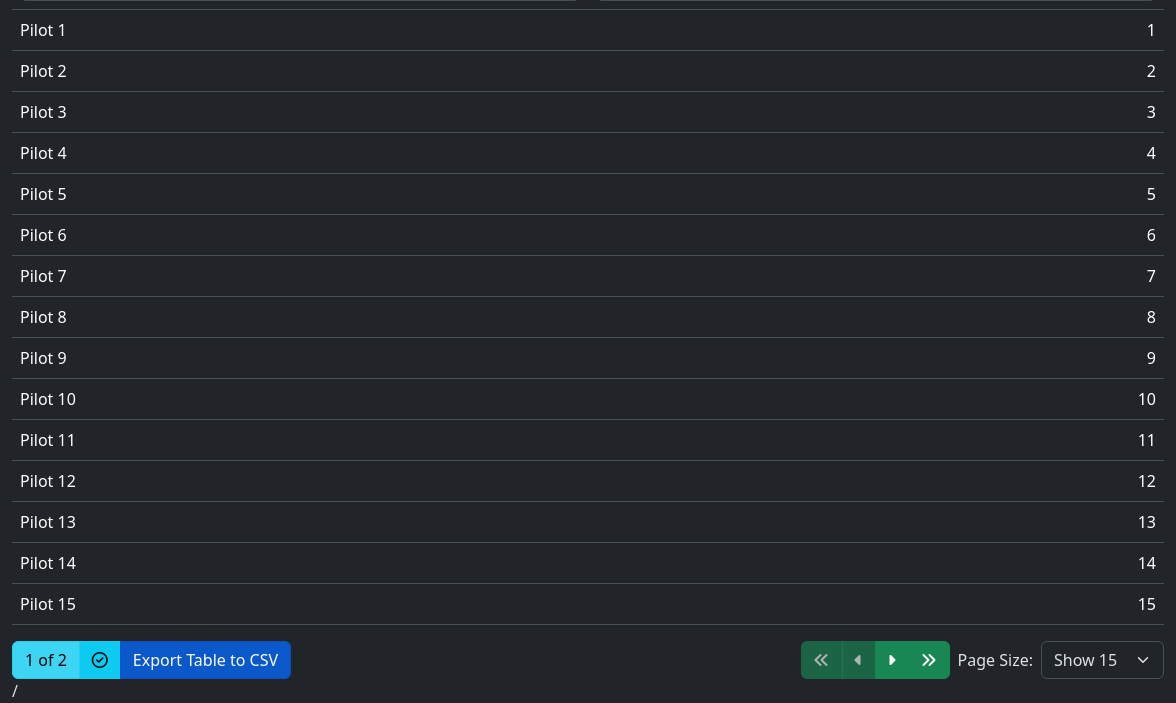
BaseTable data loaded time › shows no time for a table that never fetched
(page scrolled)
Step 1. Hover over the button with class "fa-check-circle" → (100, 660), box x1=79 y1=641 x2=121 y2=679
(page scrolled)
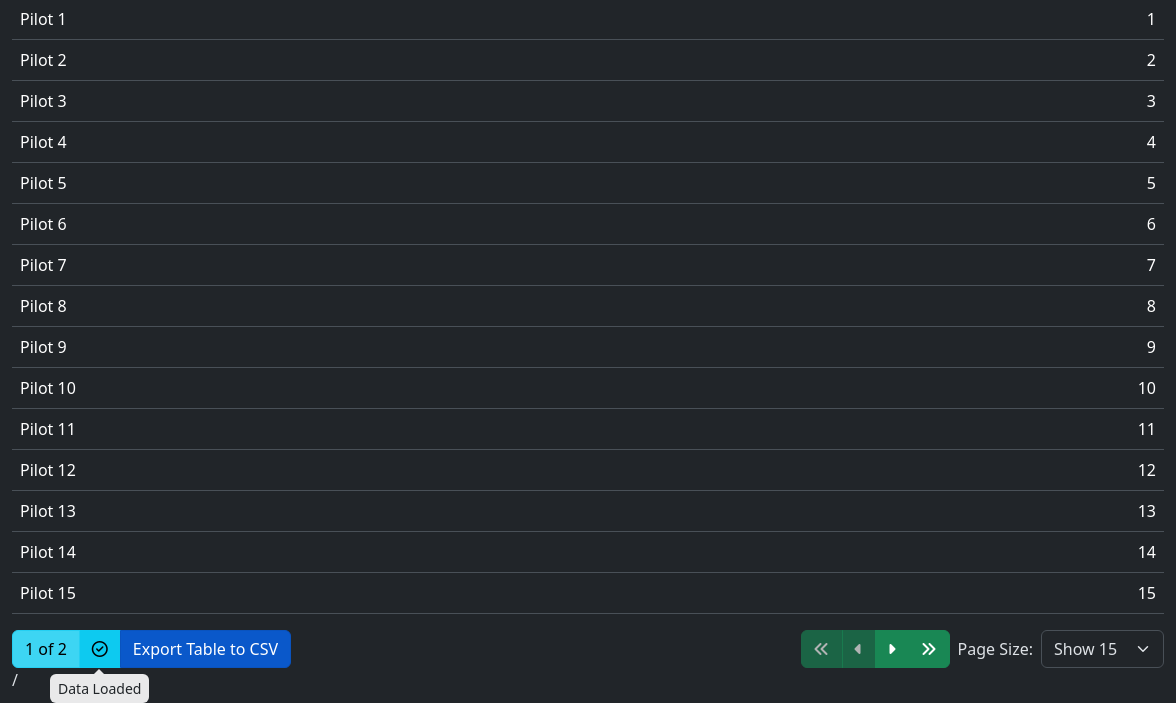
Now the tooltip reads "Data Loaded", box x1=58 y1=679 x2=141 y2=698
